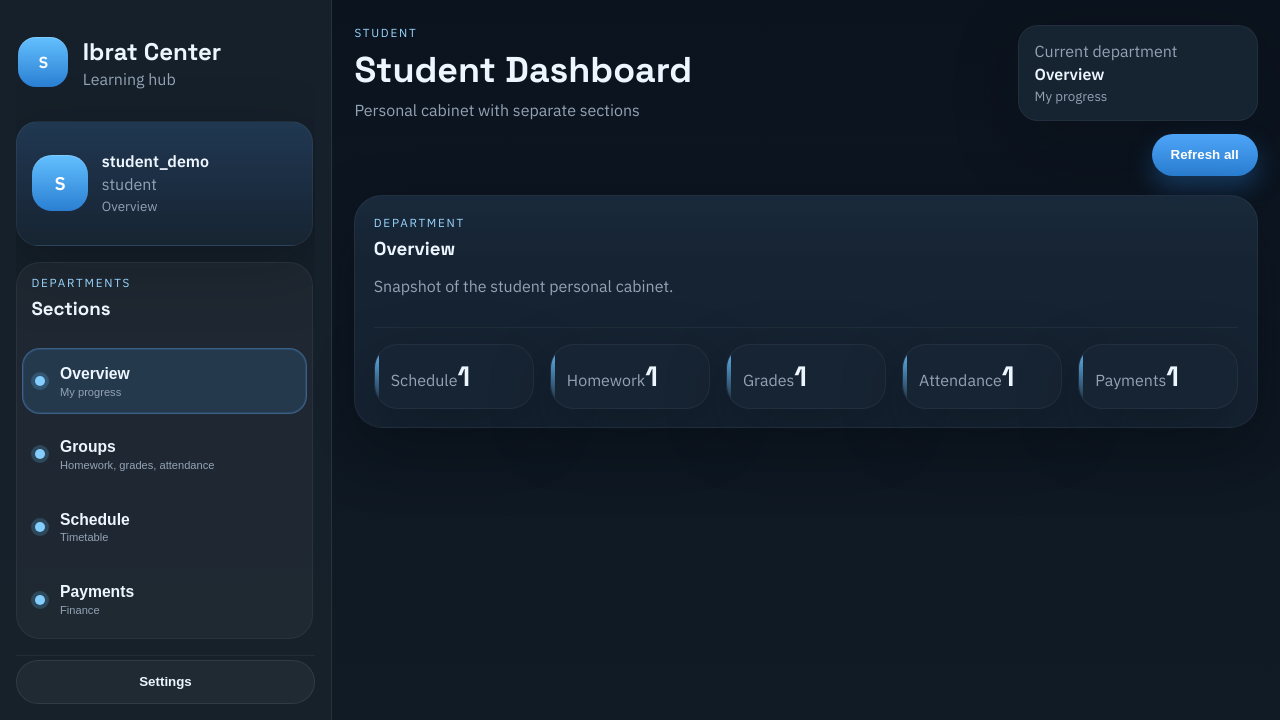
Scenario: StudentDashboard › renders loaded student workspace data
This screenshot has width=1280, height=720.
Expected: the heading "Student Dashboard" is shown, [354, 47, 692, 92]
Expected: the 1st text "1" is shown, [458, 358, 470, 394]
Click the button "Schedule Timetable": (95, 519) [22, 494, 307, 560]
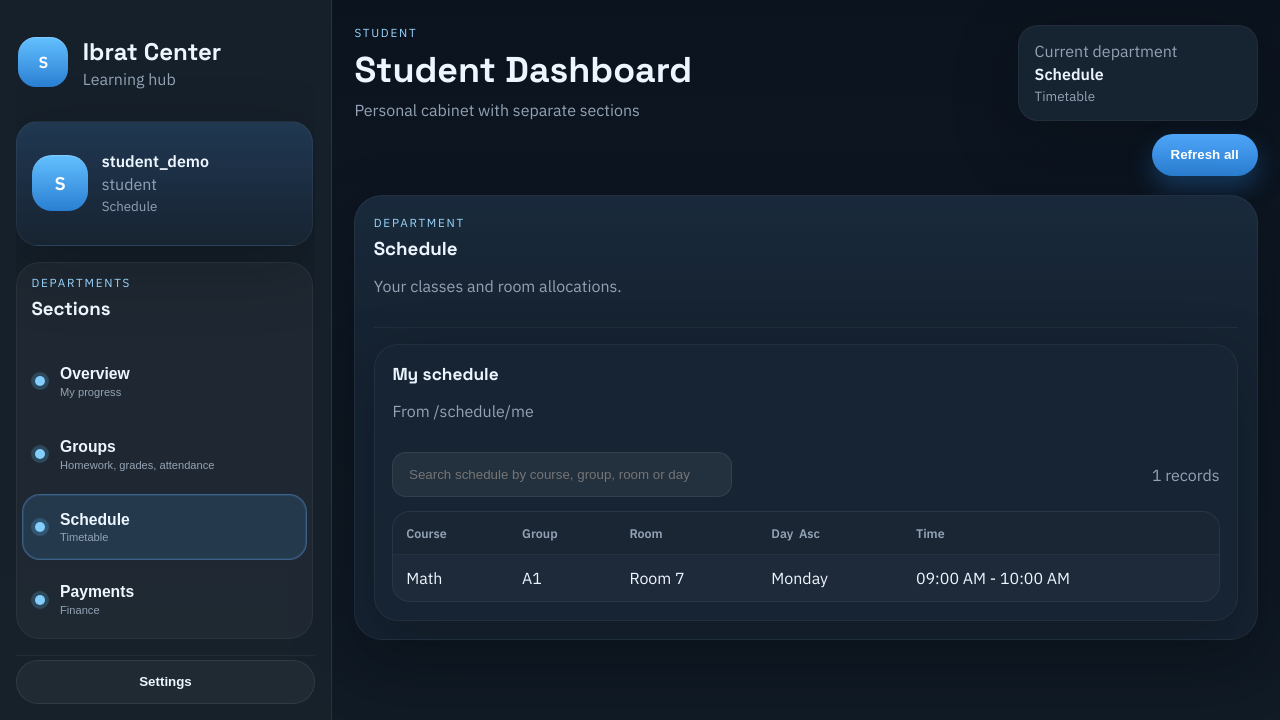
Now the text "Math" is shown, box [393, 555, 509, 601]
Click the button "Groups Homework, grades, attendance": (88, 446) [22, 421, 307, 487]
(page scrolled)
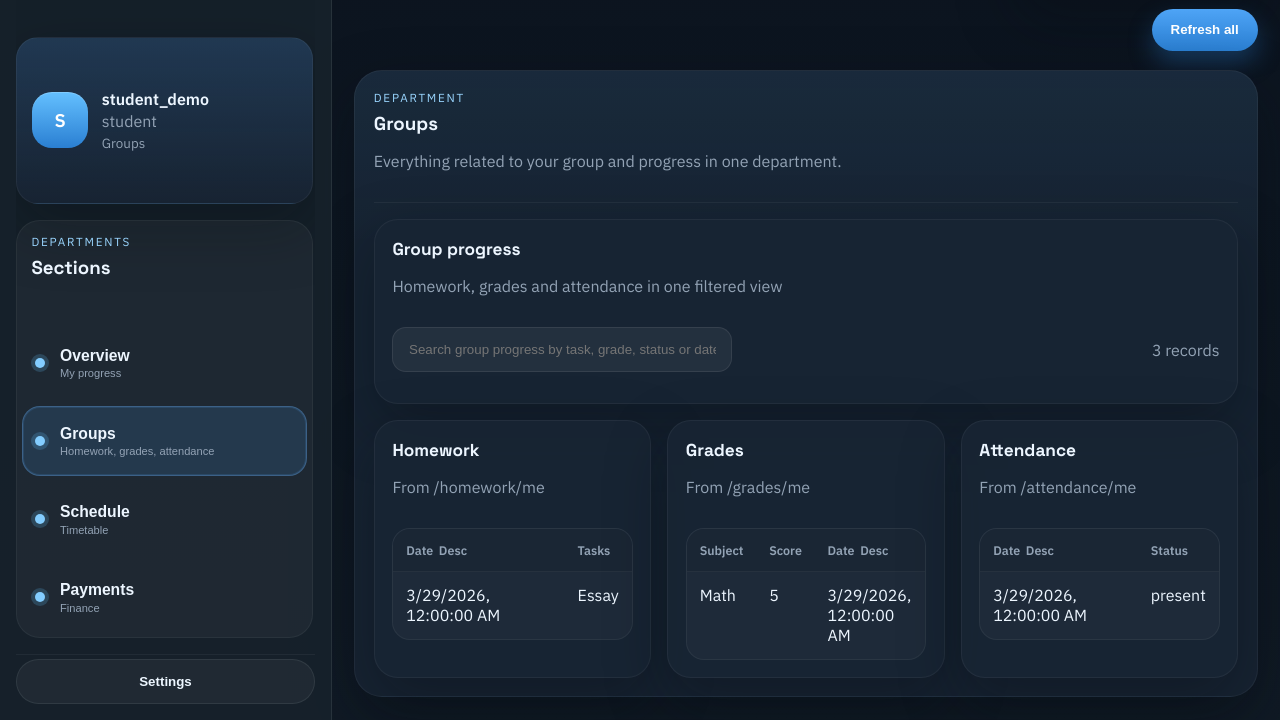
Now the text "Essay" is shown, box [565, 572, 632, 638]
Now the text "present" is shown, box [1138, 572, 1219, 638]
Click the button "Payments Finance": (97, 589) [22, 562, 307, 633]
(page scrolled)
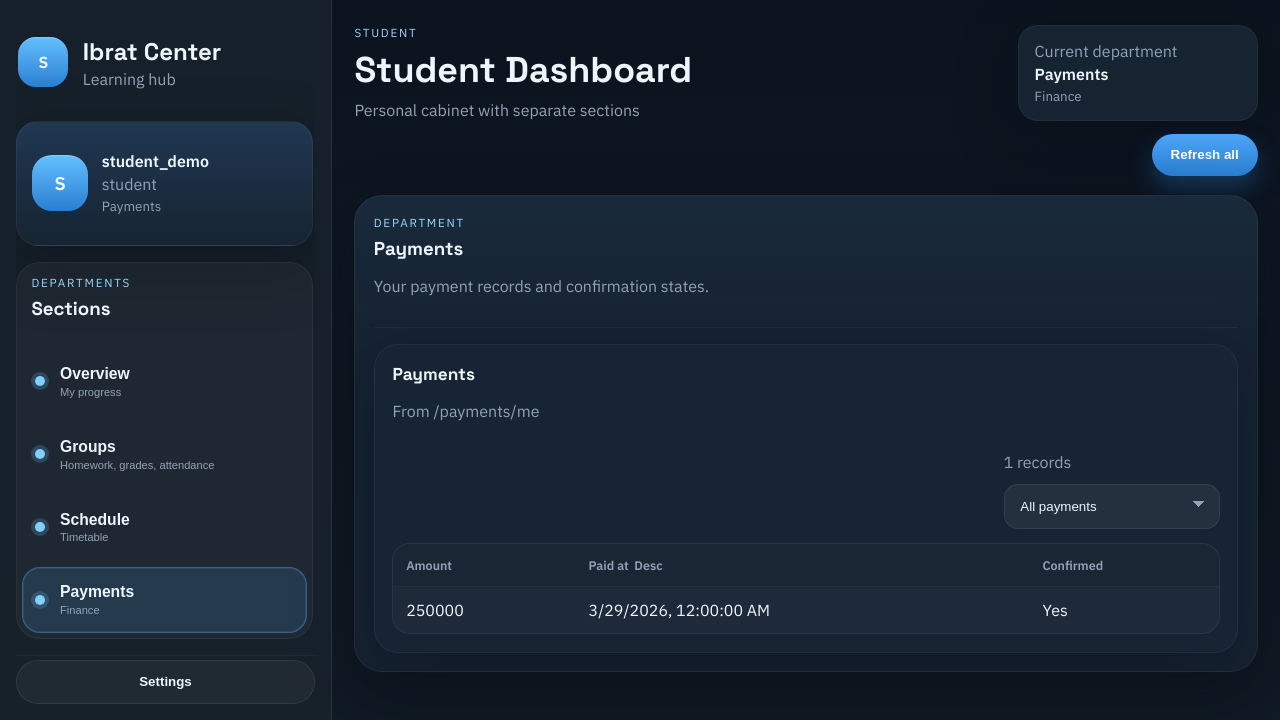
Now the text "250000" is shown, box [393, 587, 576, 633]
